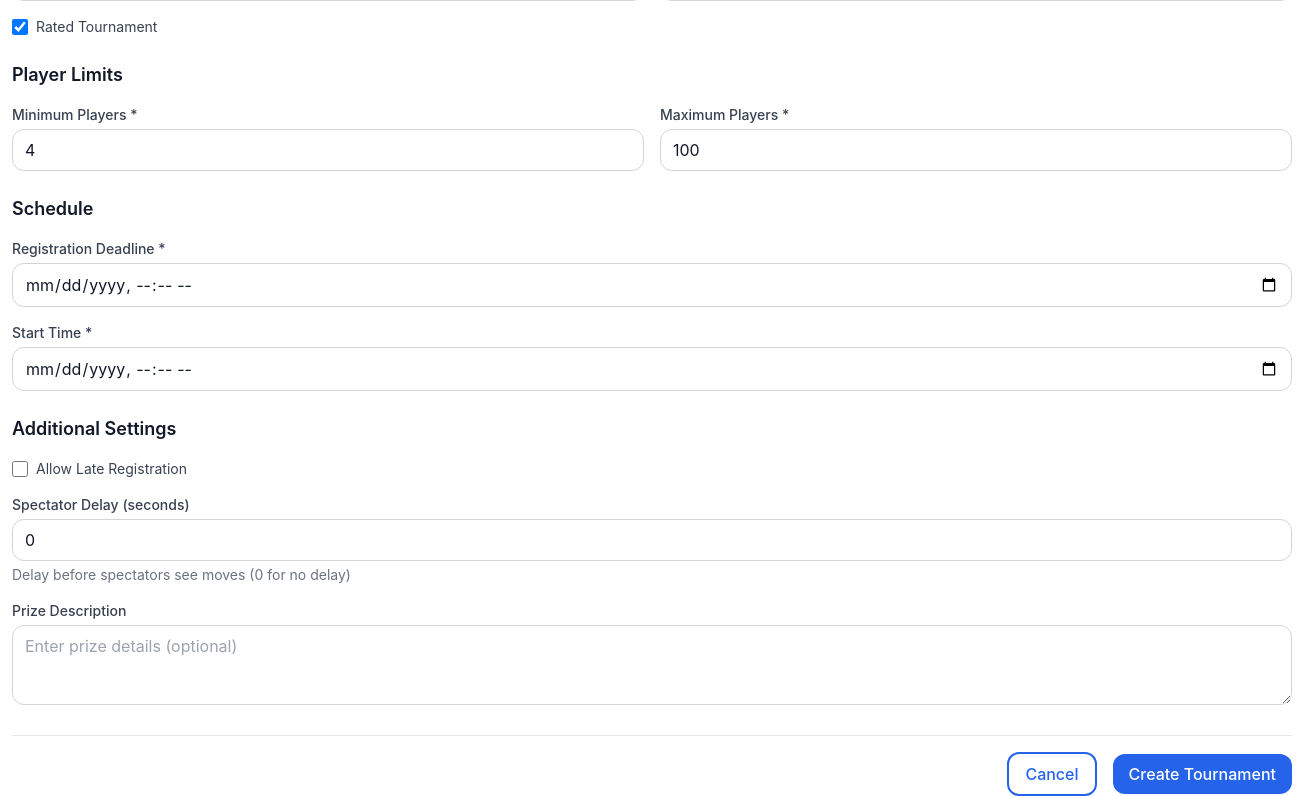
Test: TournamentForm › shows validation error for empty tournament name
(page scrolled)
Click the button "Create Tournament" at (1202, 774), box [1112,754,1292,794]
(page scrolled)
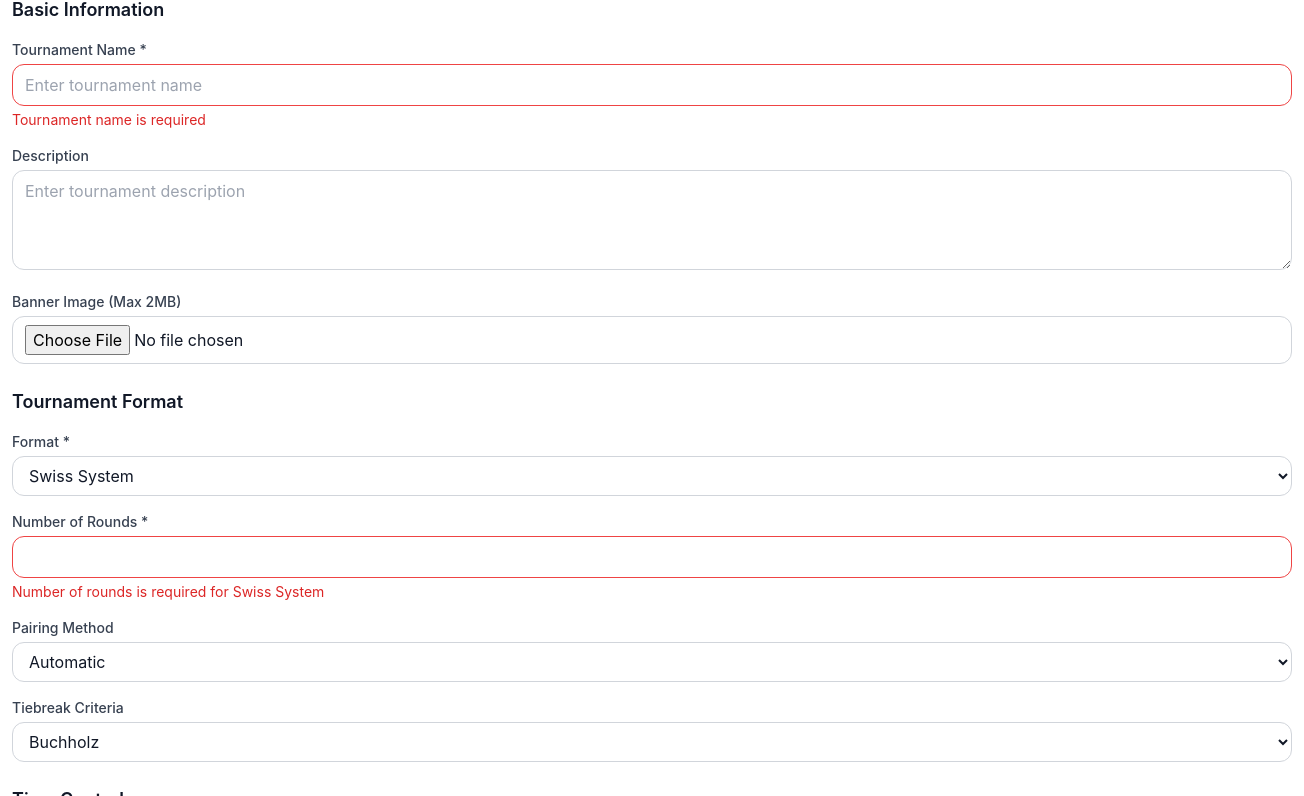
Check: the text "Tournament name is required" is shown, box [12,111,206,128]
